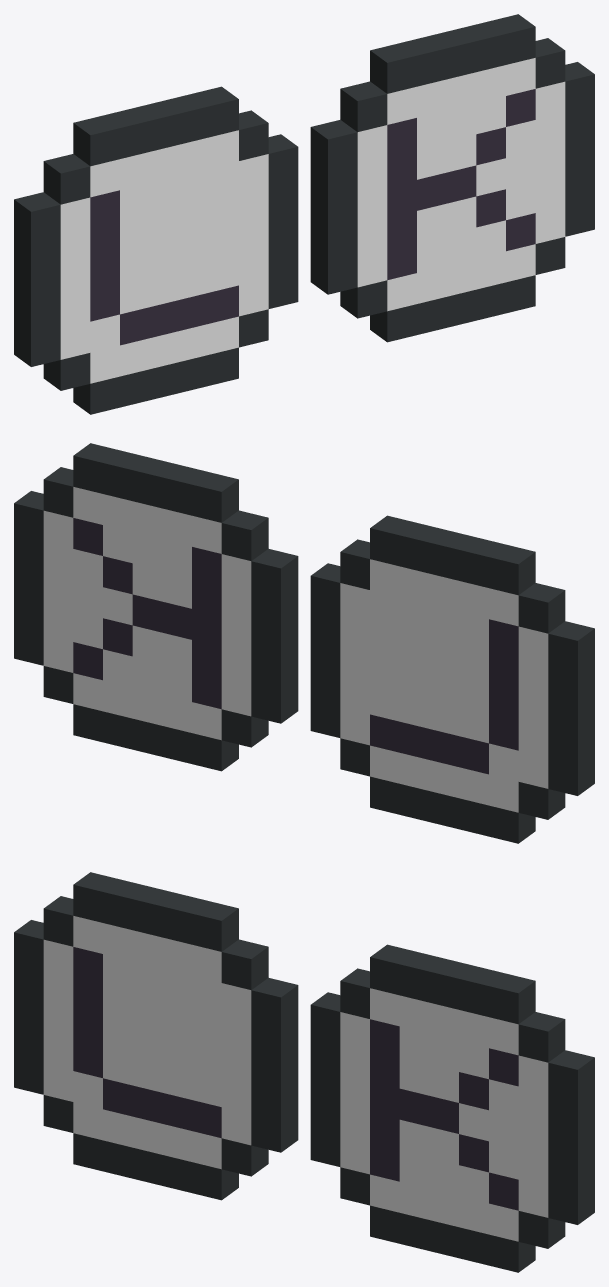
File: controles2.obj
3 renders of one model, top to bottom at view 1: azimuth 30°, elevation 25°; view 2: azimuth 150°, elevation 25°; view 3: azimuth 330°, elevation 25°, orthographic.
Bounding box in the file's own units: 1.9 × 0.9 × 0.1.
Materials: 1 (1 with a texture image).
